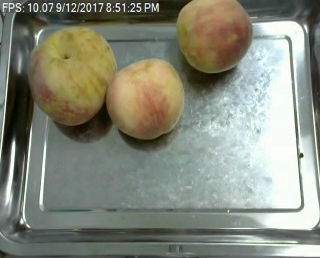Peach: (27, 25, 114, 125), (107, 57, 185, 139), (174, 0, 253, 73)
